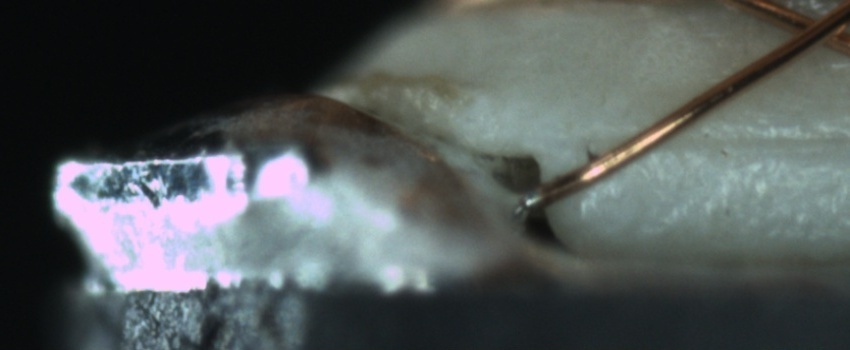CL: (779, 2, 846, 57)
DL: (624, 107, 848, 175)
